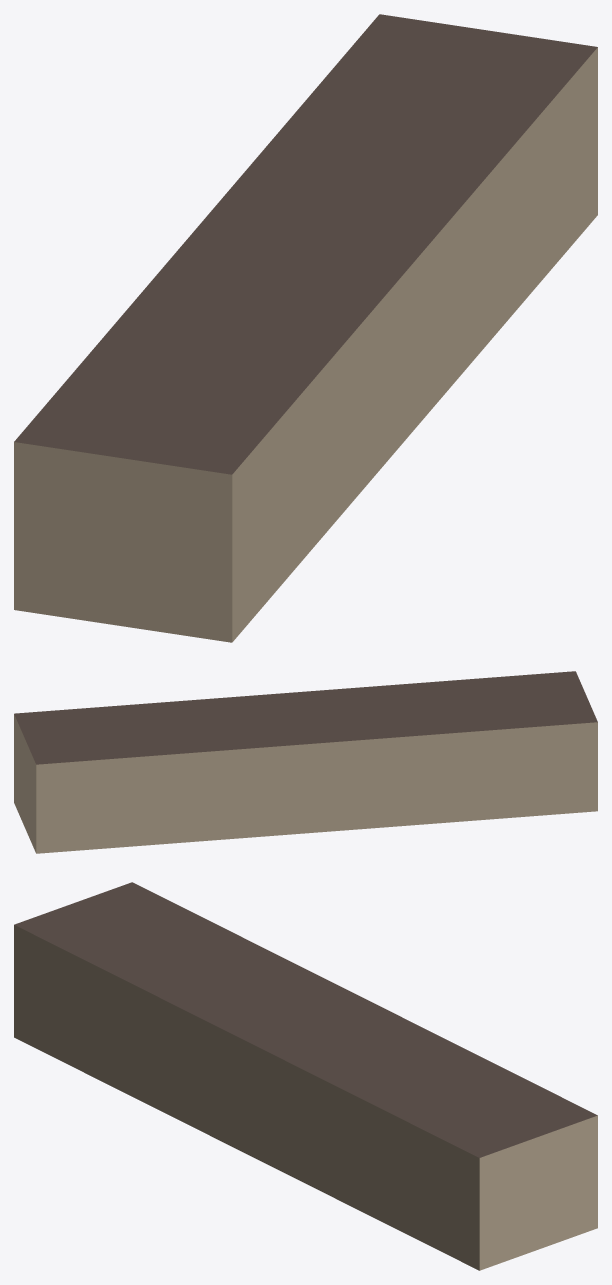
The picture shows the model from 3 angles, top to bottom: view 1: azimuth 30°, elevation 25°; view 2: azimuth 150°, elevation 25°; view 3: azimuth 270°, elevation 25°; orthographic projection. The views are drawn at different scales.
Visible parts, largest first — view 1: HP-w859488707; view 2: HP-w859488707; view 3: HP-w859488707.
Part boxes in pixels (left/top/right/bottom): HP-w859488707: left=14, top=14, right=597, bottom=642; HP-w859488707: left=14, top=671, right=597, bottom=853; HP-w859488707: left=14, top=882, right=597, bottom=1270.
Bounding box in the file's own units: 47.23 × 9 × 42.24.
